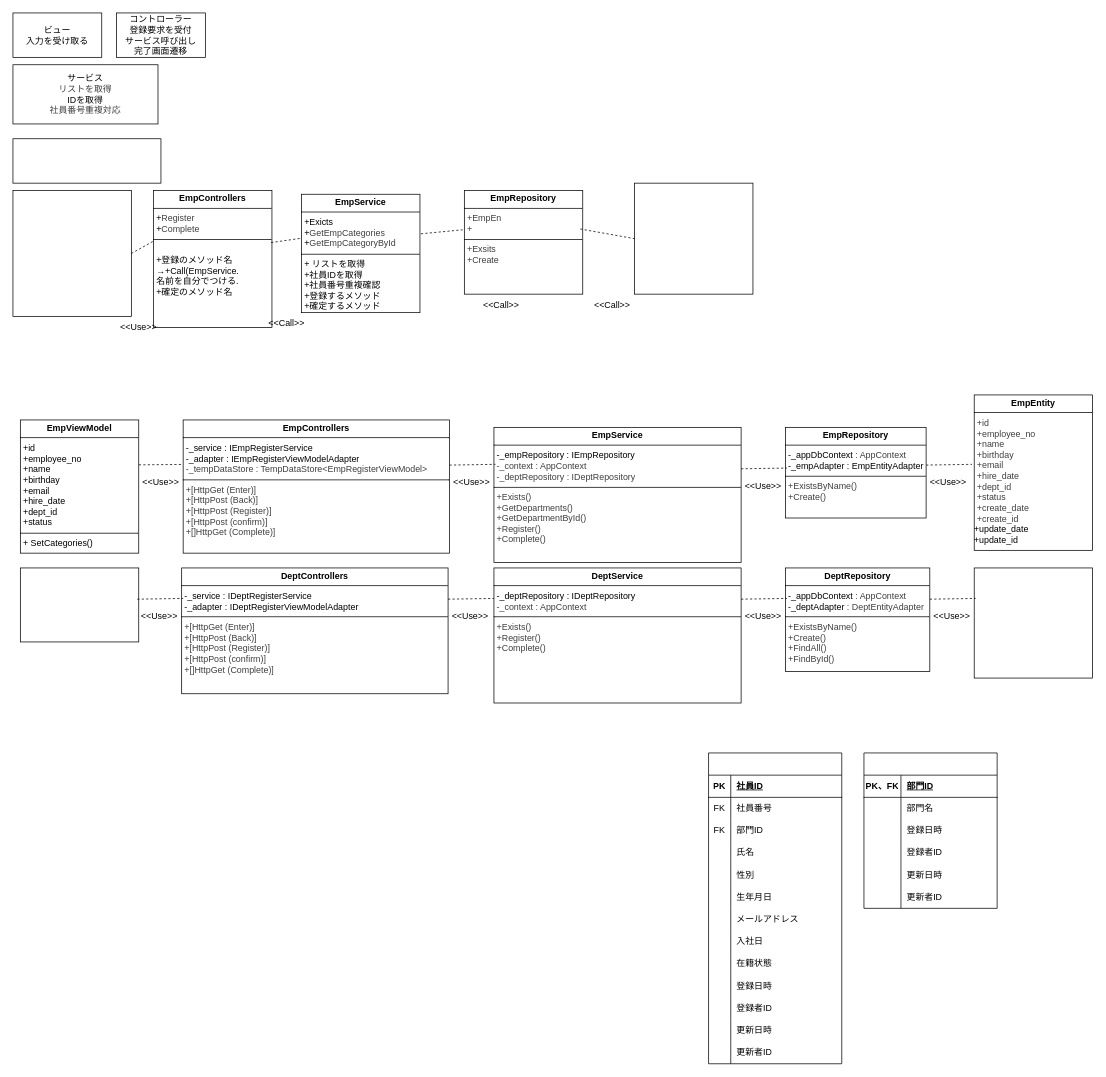
The diagram is 1106 pixels wide and 1077 high, and some of its shapes have lost their labels. Each missing label, with the box of its shape:
DeptEntity +id +name +create_date +create_id +update_date +update_id: (973, 567, 1093, 678)
DeptViewModel +id +name: (20, 567, 139, 642)
EmpViewModel +社員番号 +部門ID +氏名 +性別 +生年月日 +メールアドレス +入社日 + 入力データを受け取る: (12, 190, 131, 316)
Ent + + + + + データベースの登録: (634, 182, 753, 294)
リポジトリ 社員番号の重複を確認 永続化の指示: (12, 138, 161, 183)
社員テーブル: (708, 752, 842, 1064)
部門テーブル: (863, 752, 997, 908)
